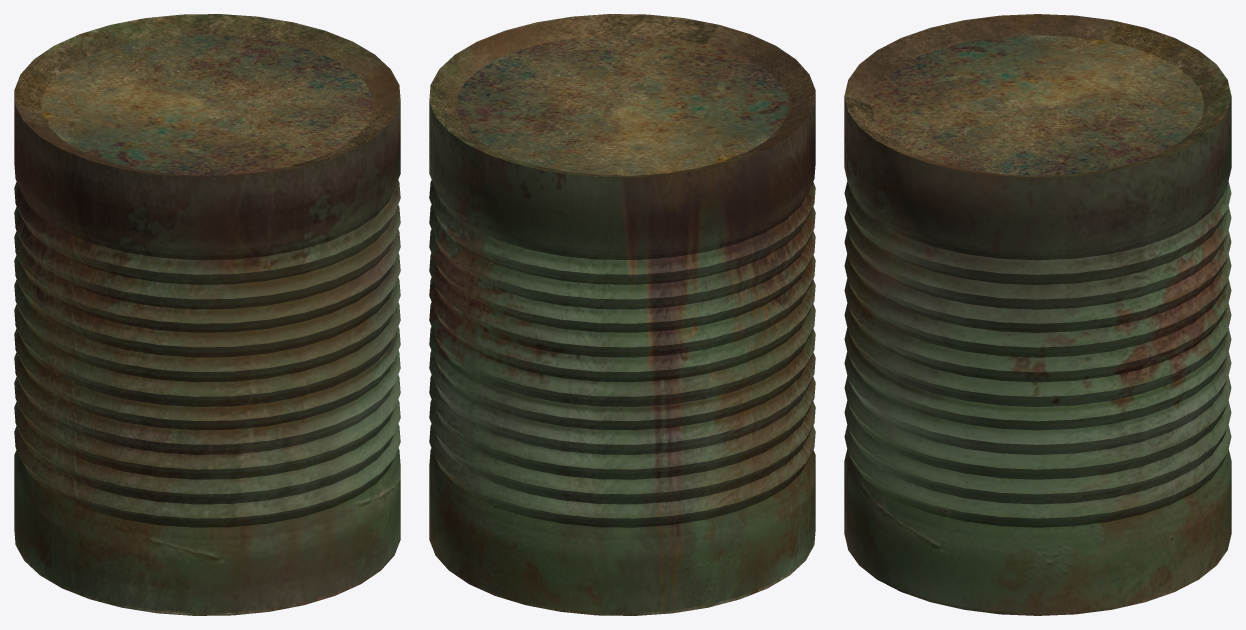
The model's file is Barrel1 1.fbx.
The picture shows the model from 3 angles, left to right: view 1: azimuth 30°, elevation 25°; view 2: azimuth 150°, elevation 25°; view 3: azimuth 270°, elevation 25°; orthographic projection.
Parts seen in each view (by area): view 1: SM_BARREL_L70xW70xH90_03_A004; view 2: SM_BARREL_L70xW70xH90_03_A004; view 3: SM_BARREL_L70xW70xH90_03_A004.
Boxes of the visible parts, <box> form: SM_BARREL_L70xW70xH90_03_A004: <box>14,14,400,615</box>; SM_BARREL_L70xW70xH90_03_A004: <box>429,14,815,615</box>; SM_BARREL_L70xW70xH90_03_A004: <box>844,14,1231,615</box>.
Bounding box in the file's own units: 72 × 90 × 72.
